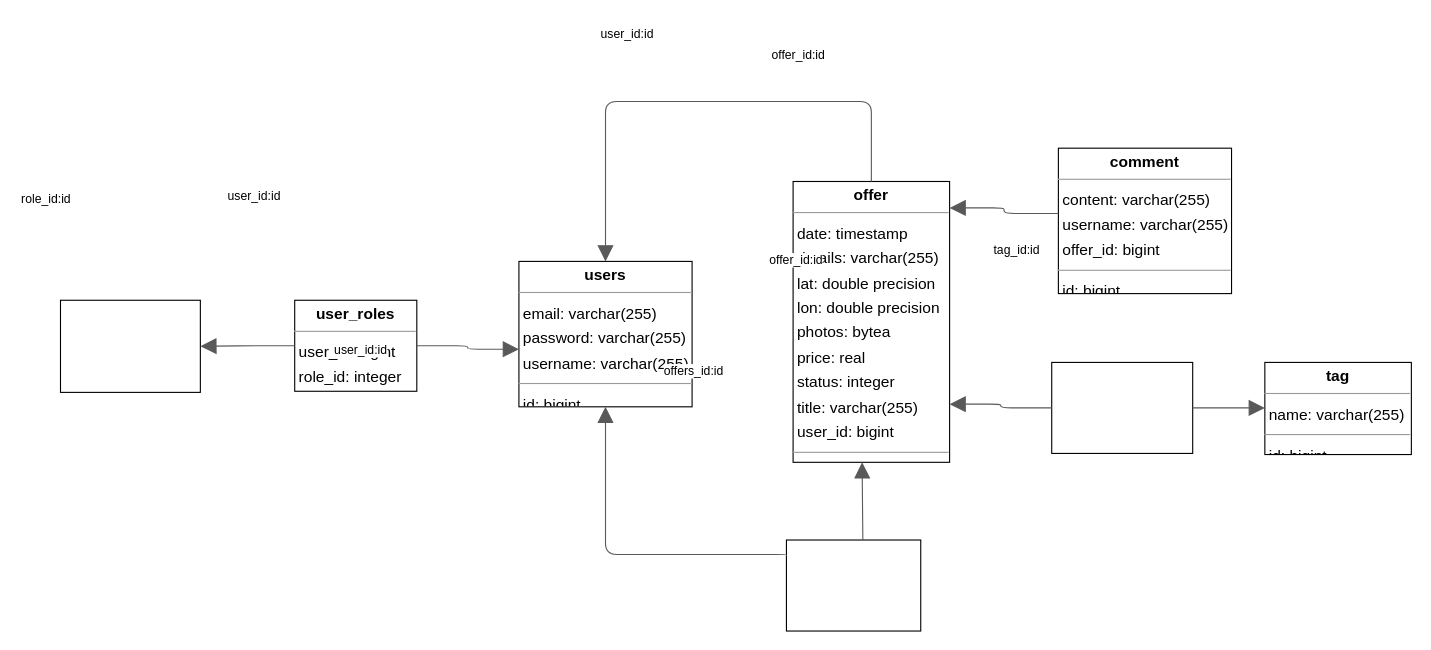
Some shapes in this 1431 by 650 pixel diagram are drawn without their labels. Each missing label, with the box of its shape:
offer_tag_list offer_id: bigint tag_id: bigint: (1051, 361, 1193, 453)
roles name: varchar(20) id: integer: (59, 299, 200, 392)
users_offers user_id: bigint offers_id: bigint: (785, 539, 921, 631)
